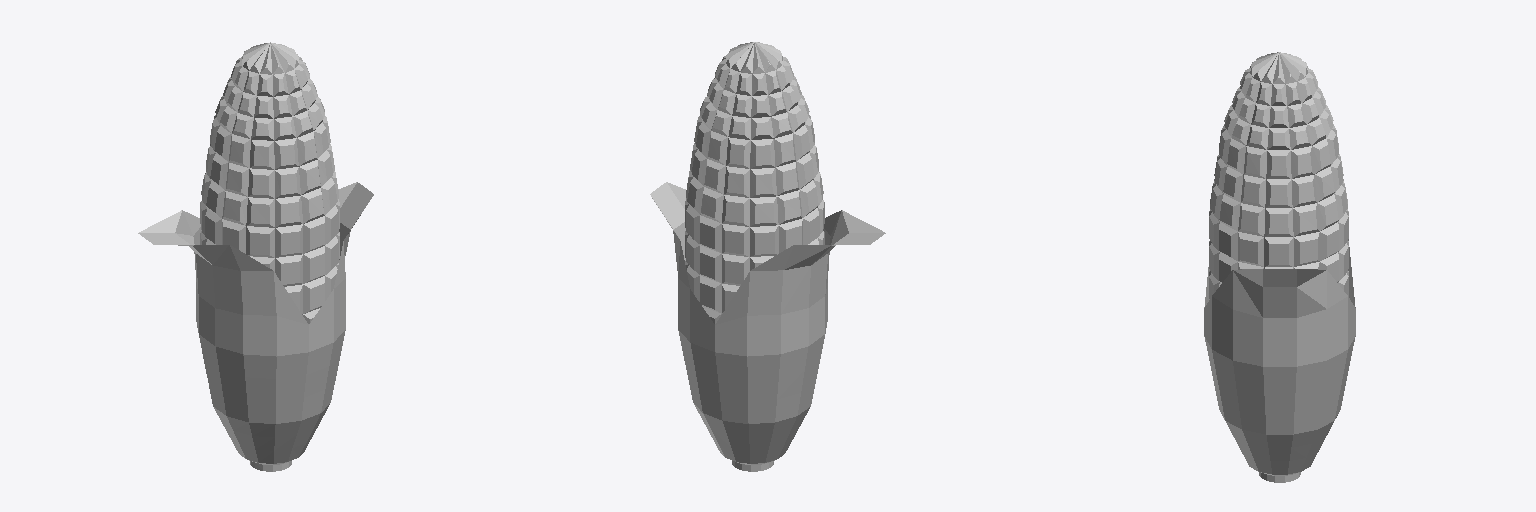
The model's file is Corn.obj.
3 renders of one model, left to right at view 1: azimuth 30°, elevation 25°; view 2: azimuth 150°, elevation 25°; view 3: azimuth 270°, elevation 25°, orthographic.
Visible parts, largest first — view 1: Corn; view 2: Corn; view 3: Corn.
Part boxes in pixels (x1,y1,x2,y2): Corn: (138,42,373,471); Corn: (650,42,885,471); Corn: (1204,52,1355,482).
Bounding box in the file's own units: 0.2134 × 0.3905 × 0.1272.